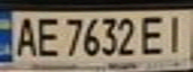2: (115, 14, 142, 58)
3: (100, 15, 121, 57)
6: (81, 15, 103, 57)
7: (60, 15, 84, 57)
A: (9, 14, 39, 58)
E: (136, 12, 172, 56), (33, 14, 60, 58)
I: (160, 11, 193, 55)
